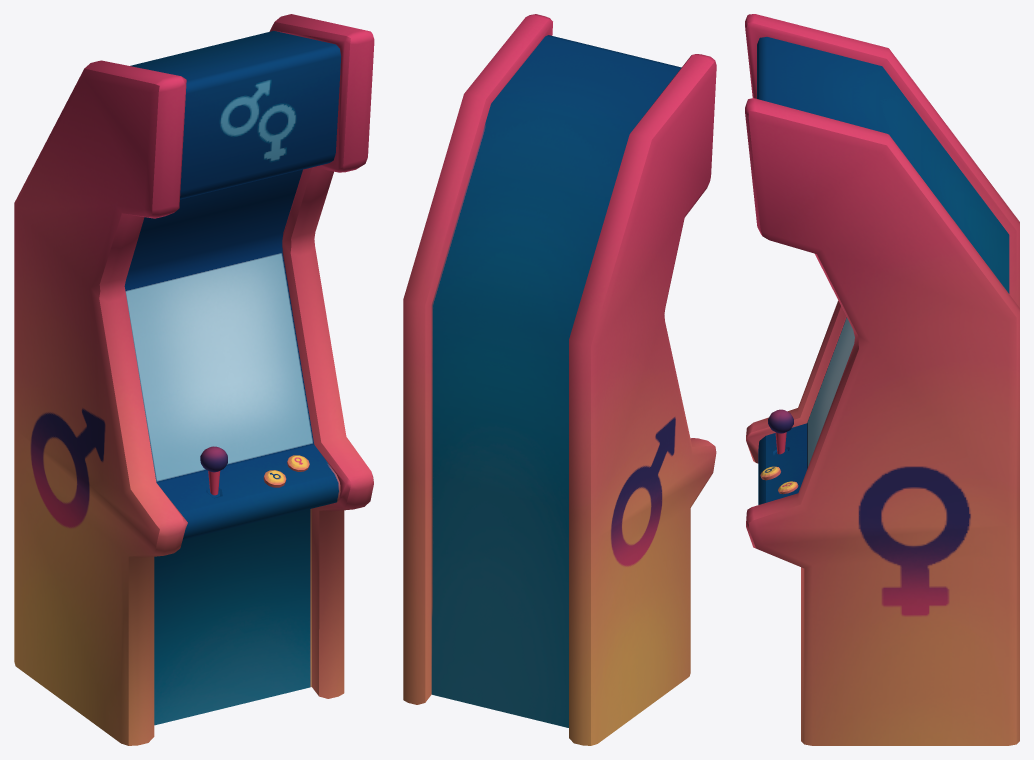
Rendered from Recreativa.fbx.
3 renders of one model, left to right at view 1: azimuth 30°, elevation 25°; view 2: azimuth 150°, elevation 25°; view 3: azimuth 270°, elevation 25°, orthographic. The views are drawn at different scales.
Parts seen in each view (by area): view 1: Maquina, Palo; view 2: Maquina; view 3: Maquina, Palo.
Part boxes in pixels (<box>): Maquina: <box>14,14,374,745</box>; Palo: <box>200,446,227,495</box>; Maquina: <box>403,14,716,745</box>; Maquina: <box>745,14,1019,745</box>; Palo: <box>768,409,793,454</box>.
Bounding box in the file's own units: 68.16 × 201 × 78.64.
